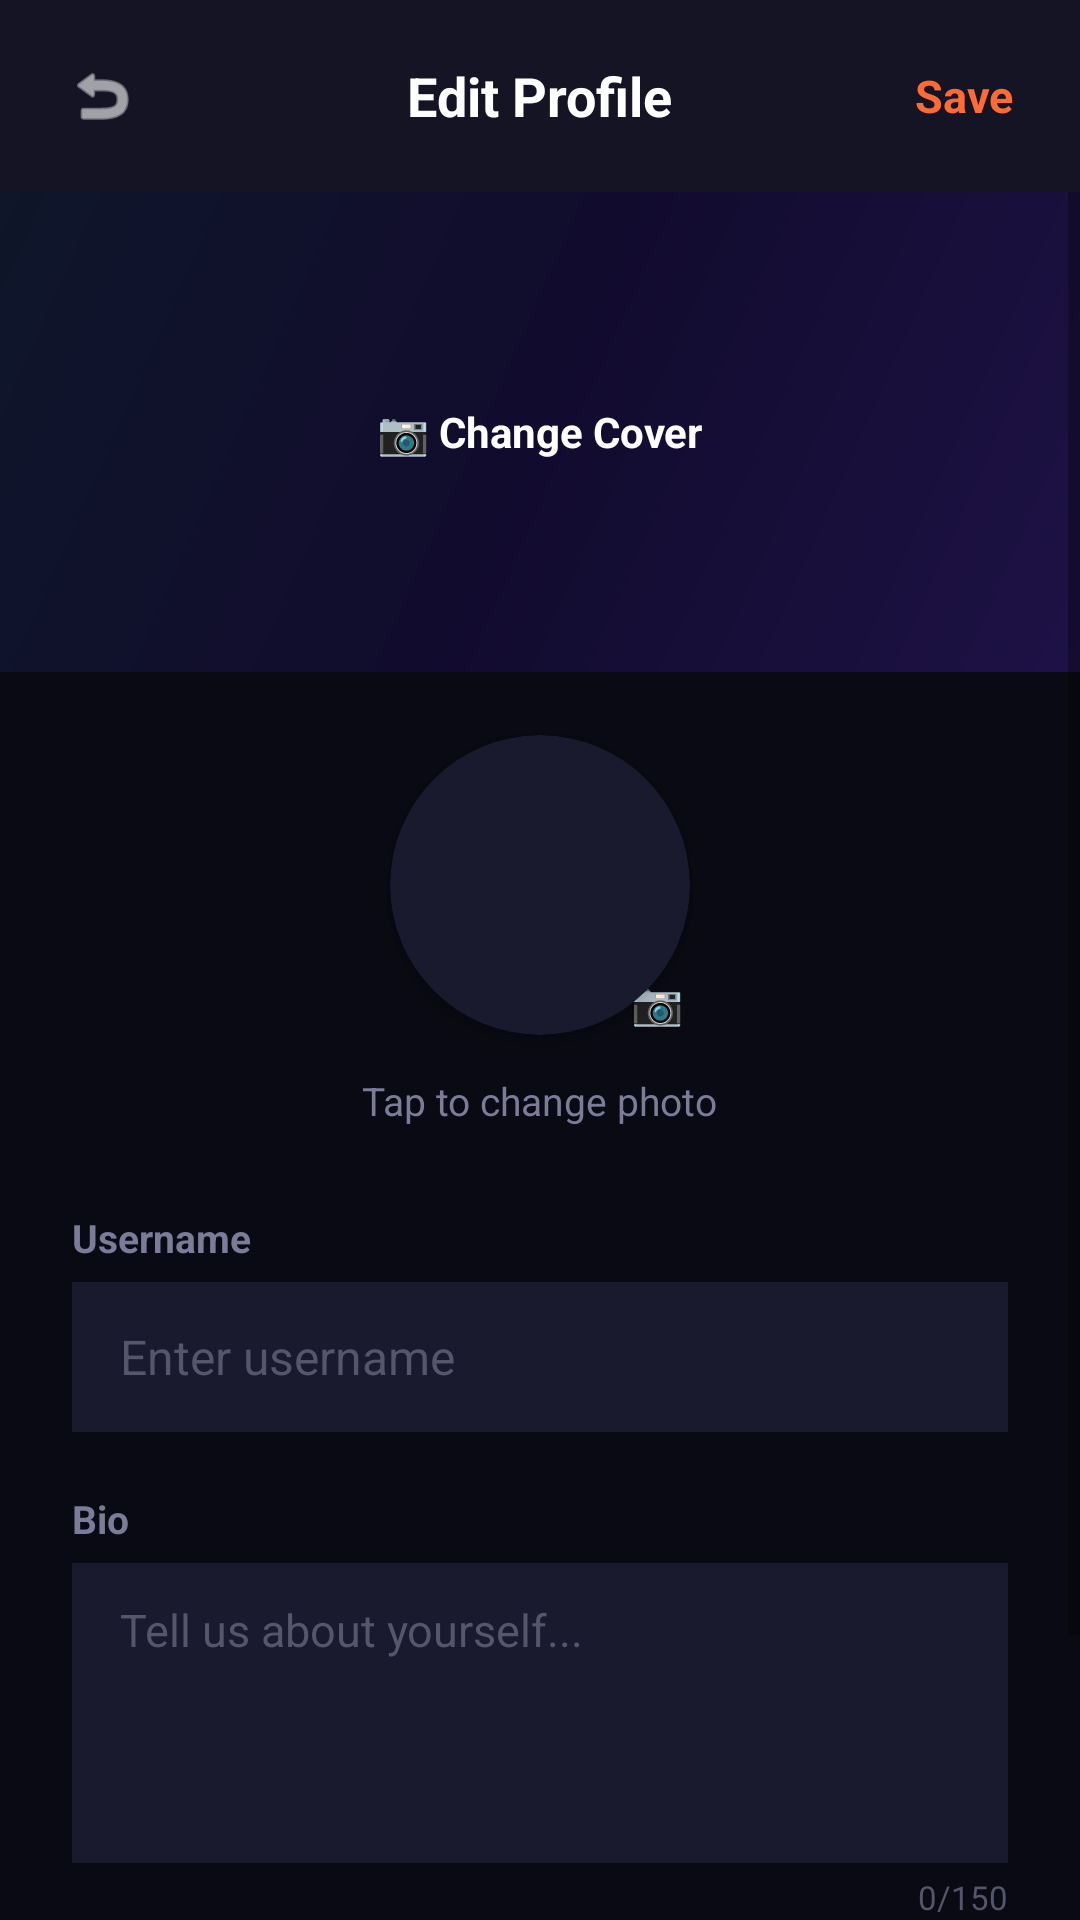

Point at icon controls on the screen. Image size 1080x1920, points as (x,y).
revert: (103,96)
